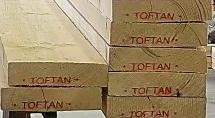Wood-Plank: (109, 47, 208, 73), (2, 87, 102, 112), (8, 63, 108, 87), (109, 73, 207, 97), (111, 23, 208, 47), (113, 0, 212, 23), (107, 96, 207, 118)
